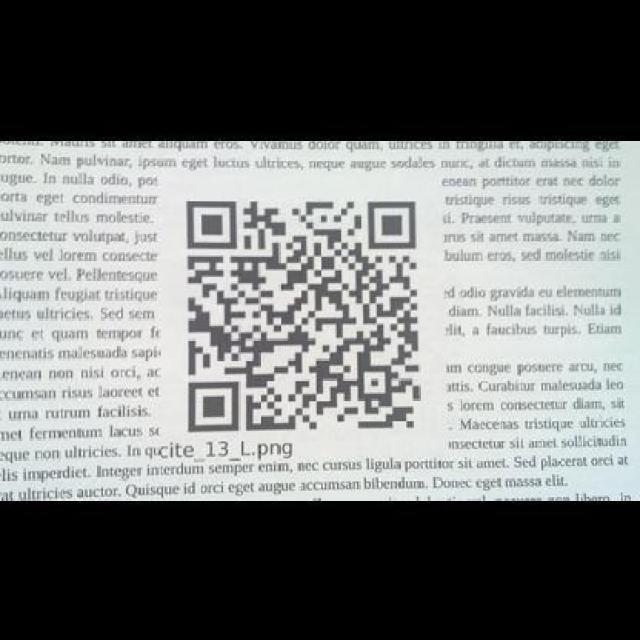QRCode: (171, 178, 430, 438)
